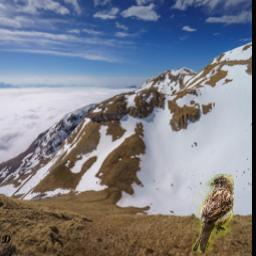Sparrow: (192, 174, 234, 253)
